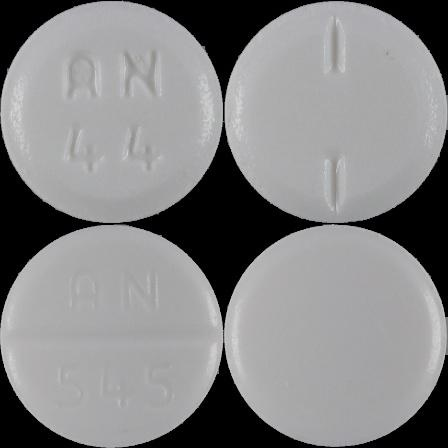50268-686: (0, 0, 224, 224)
